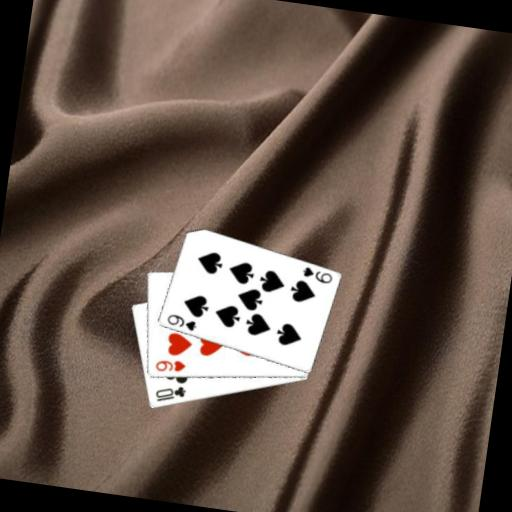10C: (151, 381, 189, 408)
9H: (152, 354, 188, 377)
9S: (163, 310, 199, 333), (299, 263, 335, 286)
